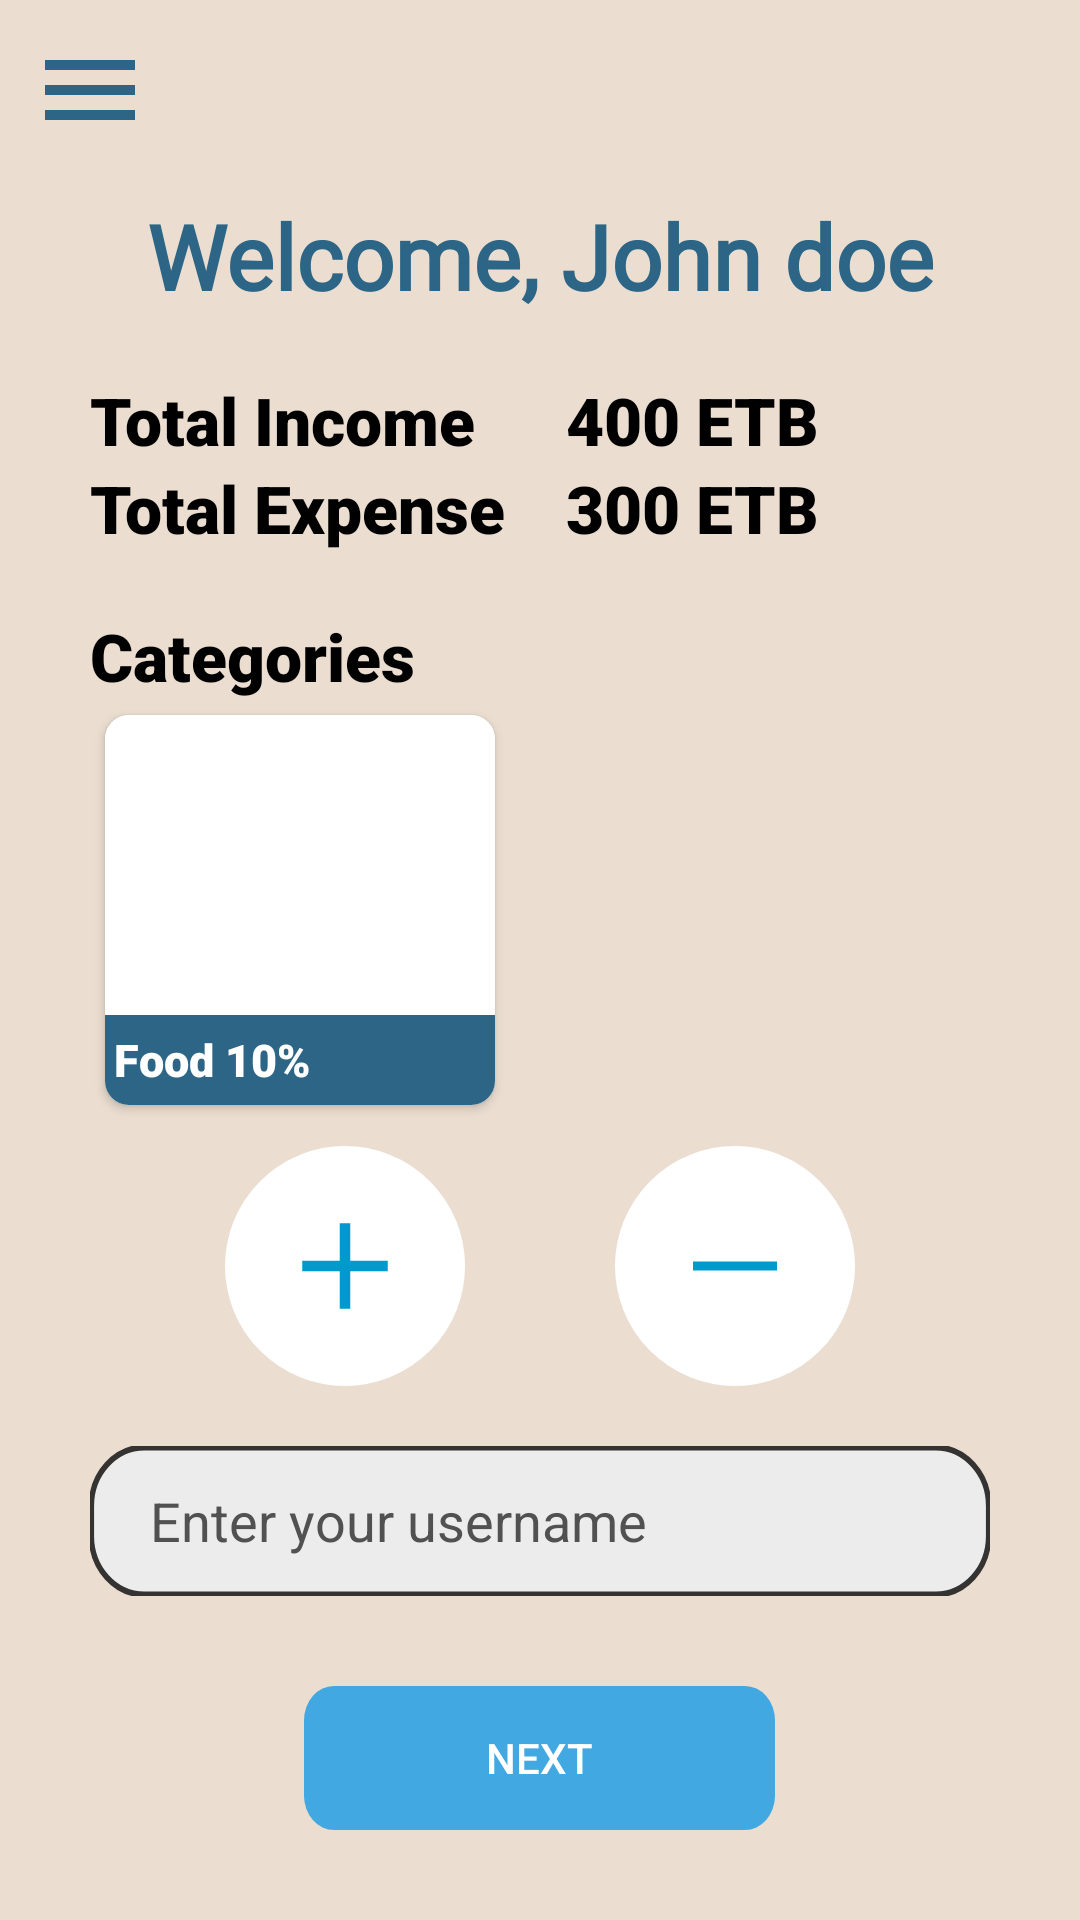

Named icons in this screenshot (1080 × 1920) and their bounding boxes, (x1, y1, x2, y2):
add: (225, 1146, 465, 1386)
menu: (45, 60, 135, 120)
remove: (615, 1146, 855, 1386)
